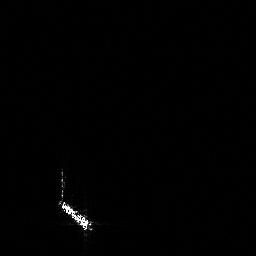ship: (53, 195, 98, 235)
